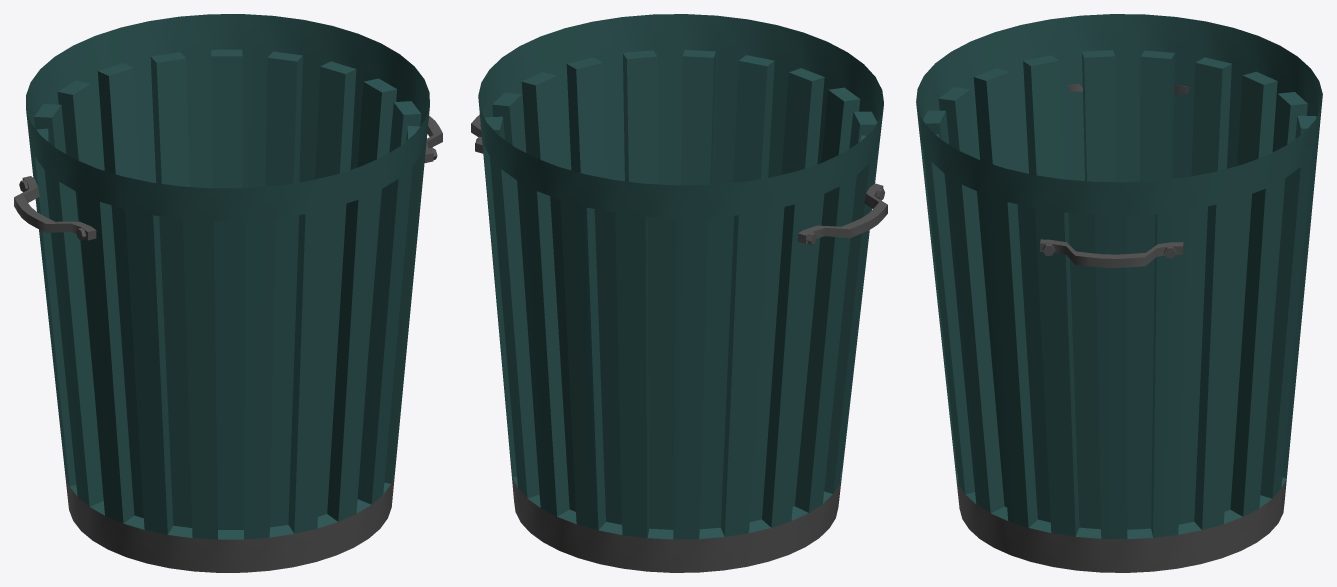
File: Trash Can standing.fbx
The picture shows the model from 3 angles, left to right: view 1: azimuth 30°, elevation 25°; view 2: azimuth 150°, elevation 25°; view 3: azimuth 270°, elevation 25°; orthographic projection.
Parts seen in each view (by area): view 1: polySurface13; view 2: polySurface13; view 3: polySurface13.
Part boxes in pixels (x1=…): polySurface13: x1=14, y1=14, x2=442, y2=572; polySurface13: x1=471, y1=14, x2=887, y2=572; polySurface13: x1=916, y1=14, x2=1322, y2=572.
Size of the model in its own units: 5.16 by 5.05 by 4.55.
